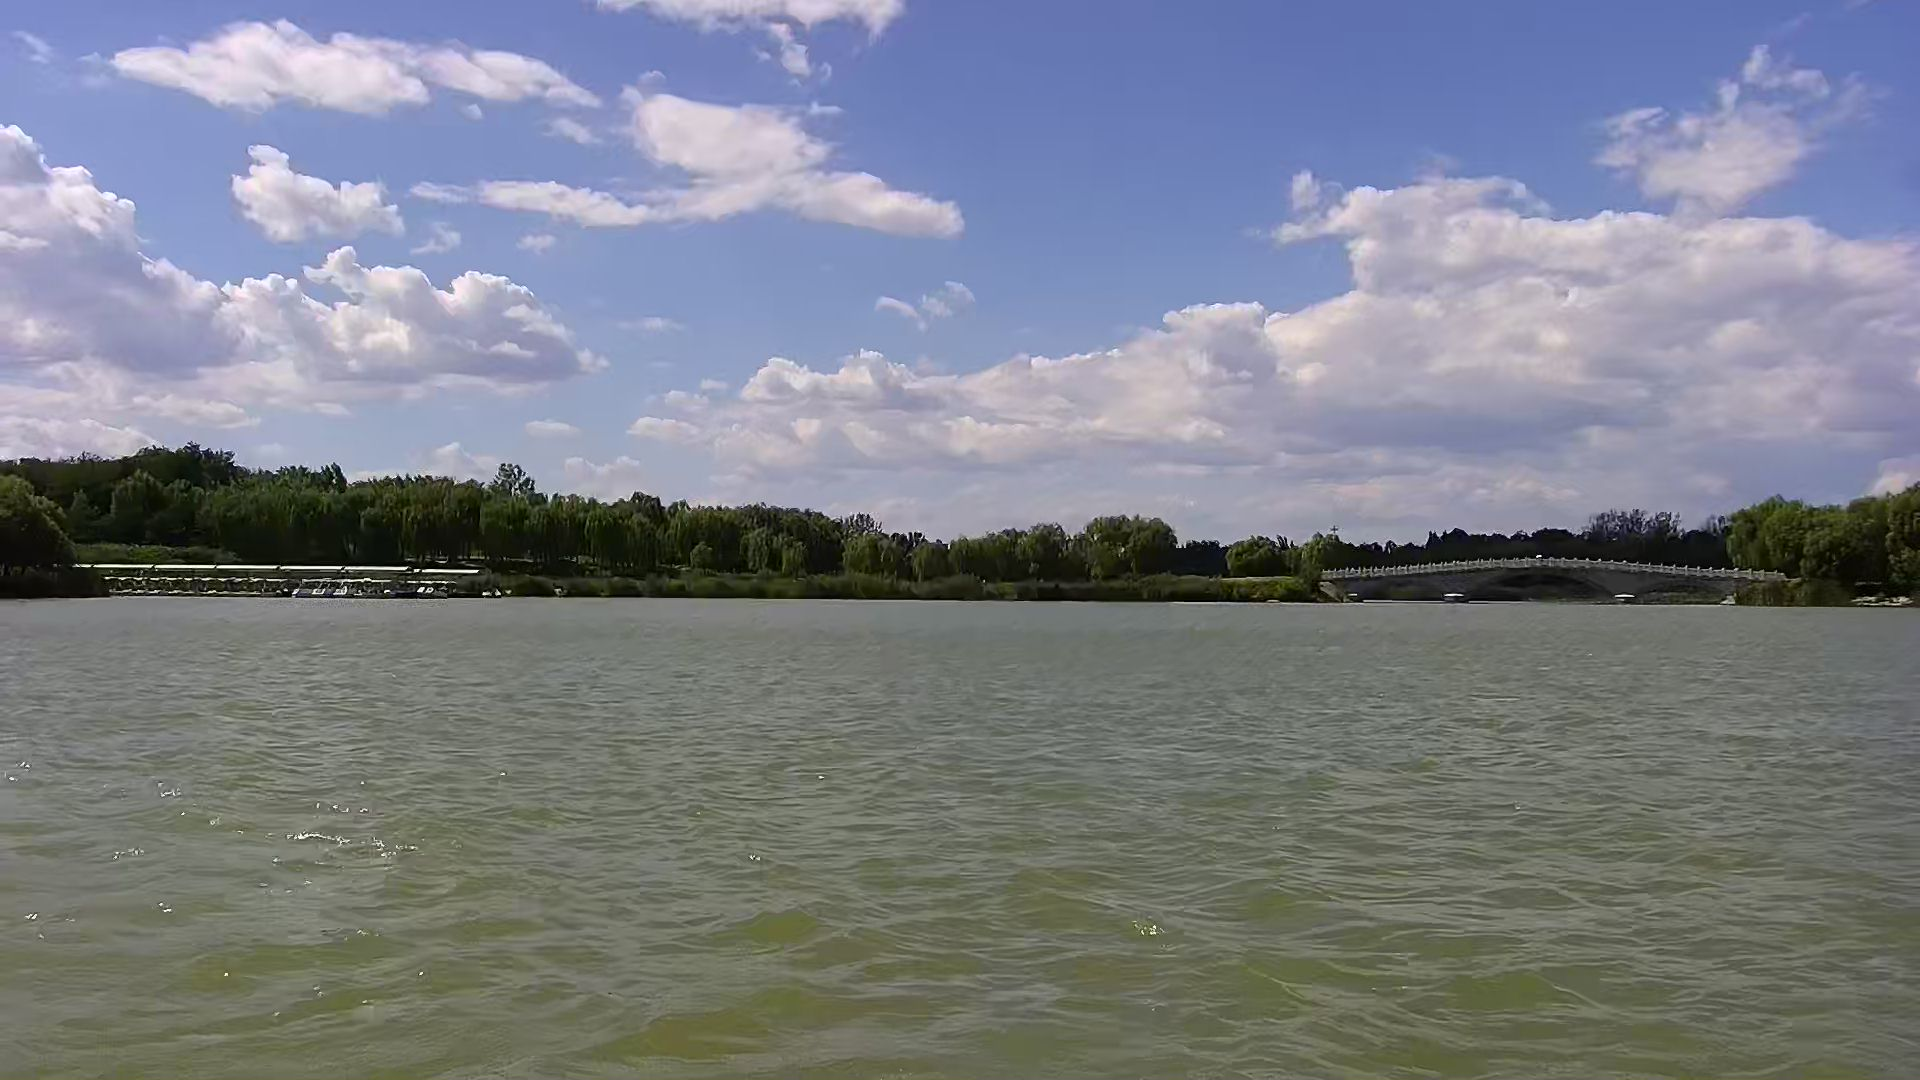bridge: (1316, 558, 1791, 611)
harbor: (76, 560, 491, 604)
